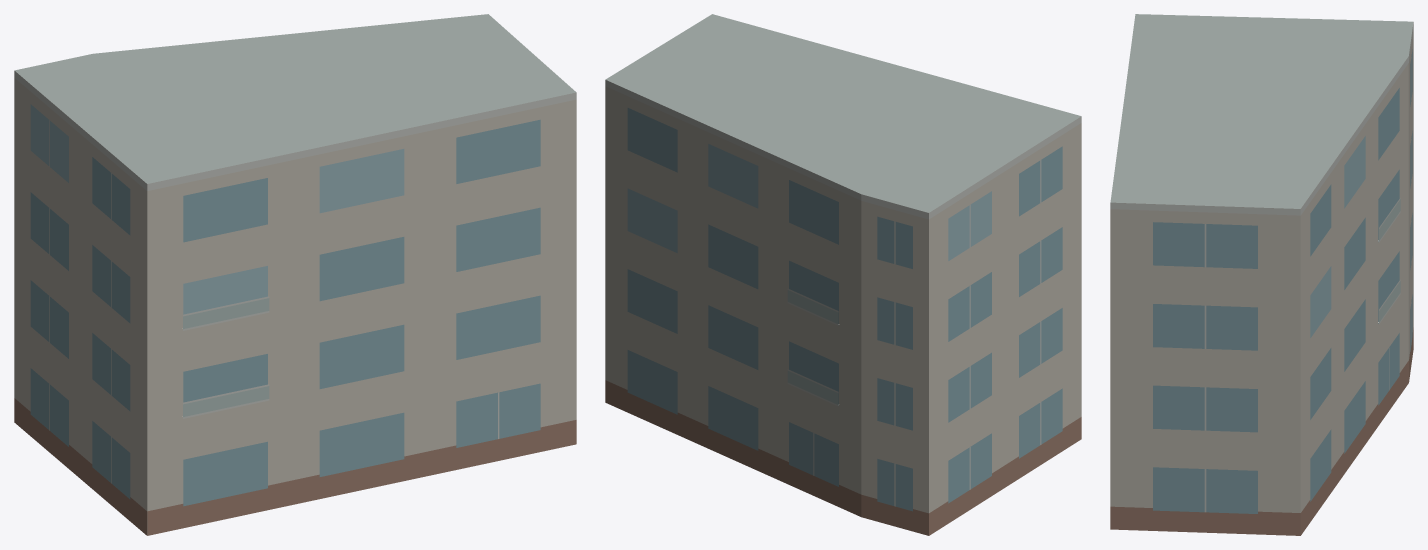
Rendered from survey-upis-32702475.glb.
The picture shows the model from 3 angles, left to right: view 1: azimuth 30°, elevation 25°; view 2: azimuth 150°, elevation 25°; view 3: azimuth 270°, elevation 25°; orthographic projection. The views are drawn at different scales.
Visible parts, largest first — view 1: survey-upis-32702475.tmp; view 2: survey-upis-32702475.tmp; view 3: survey-upis-32702475.tmp.
Boxes of the visible parts, x1,y1,x2,y2 form: survey-upis-32702475.tmp: (14, 14, 576, 535); survey-upis-32702475.tmp: (605, 14, 1081, 535); survey-upis-32702475.tmp: (1110, 14, 1413, 535).
Size of the model in its own units: 15.49 by 12.1 by 10.18.
